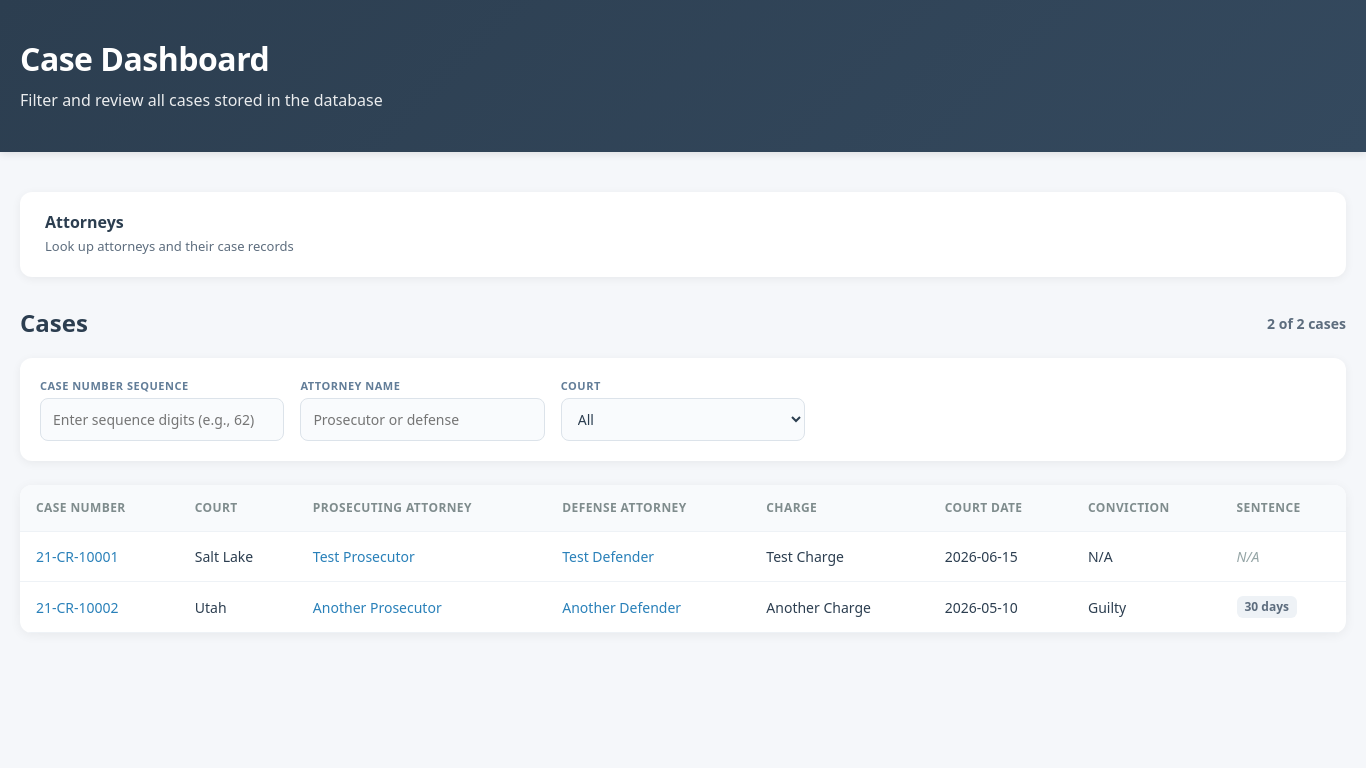
Scenario: Home dashboard › filters cases by court
This screenshot has width=1366, height=768.
Select "Utah" in the dropdown labelled "Court" at (683, 420), box [561, 398, 805, 441]
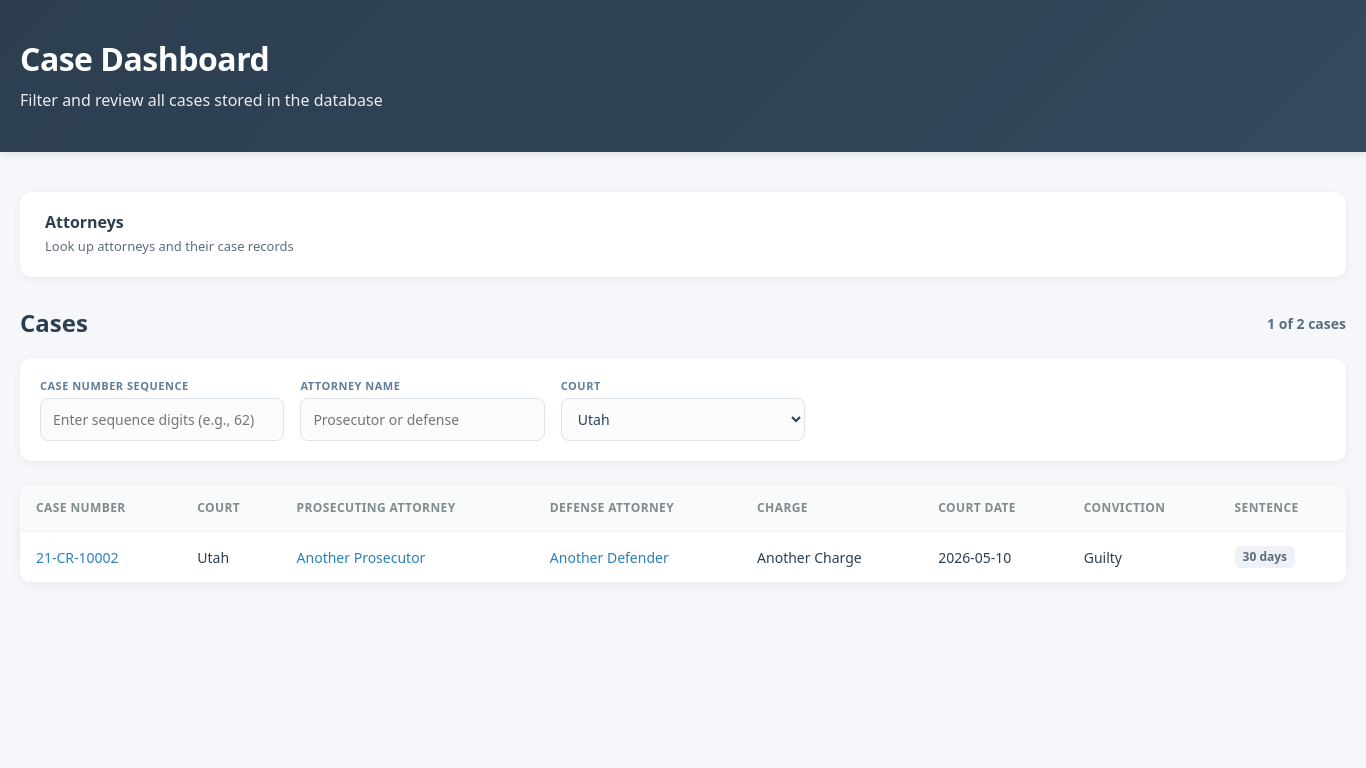
Expected: the link "21-CR-10002" is shown, [36, 548, 119, 567]
Result: the link "21-CR-10001" is gone
